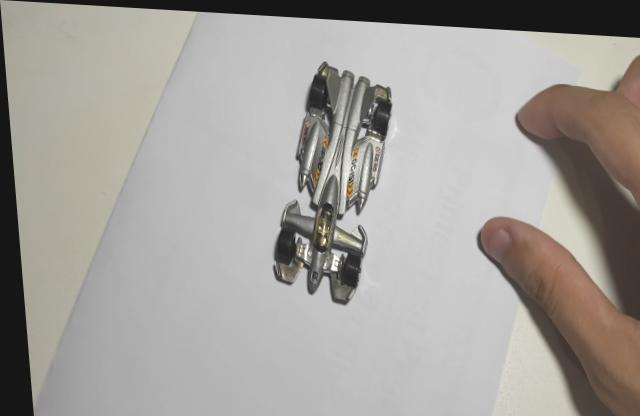05_DC121: (267, 59, 392, 302)
